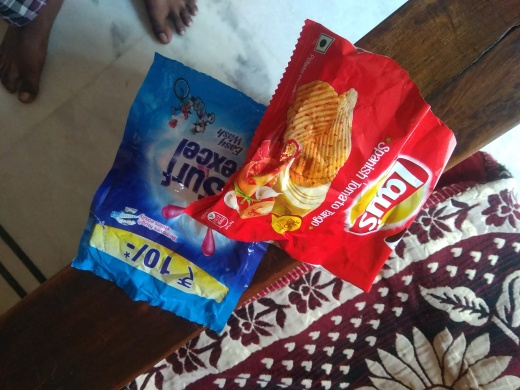lays: (210, 21, 457, 298)
surf: (78, 50, 280, 343)
